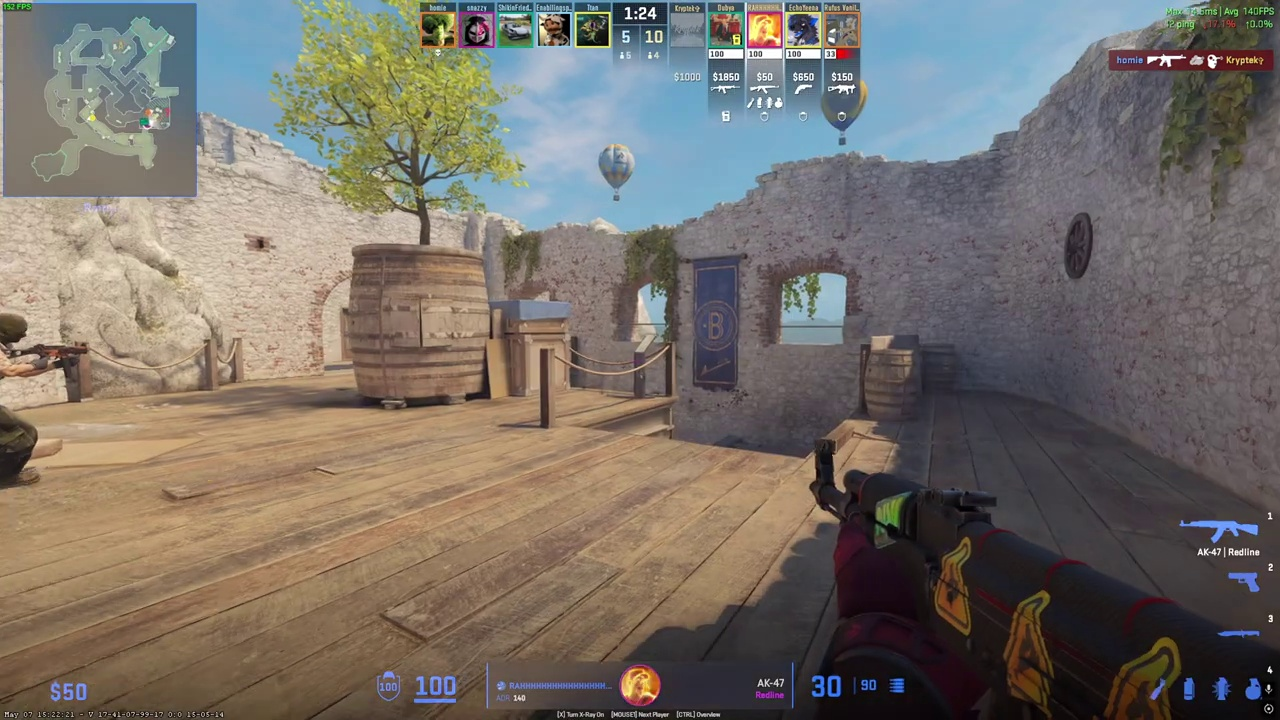Terrorist: (0, 312, 40, 494)
